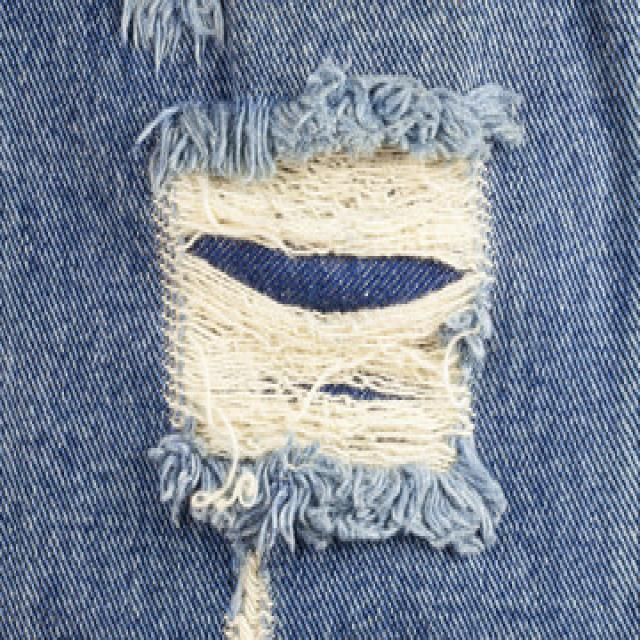Hole: (140, 63, 525, 640), (224, 556, 273, 640)
